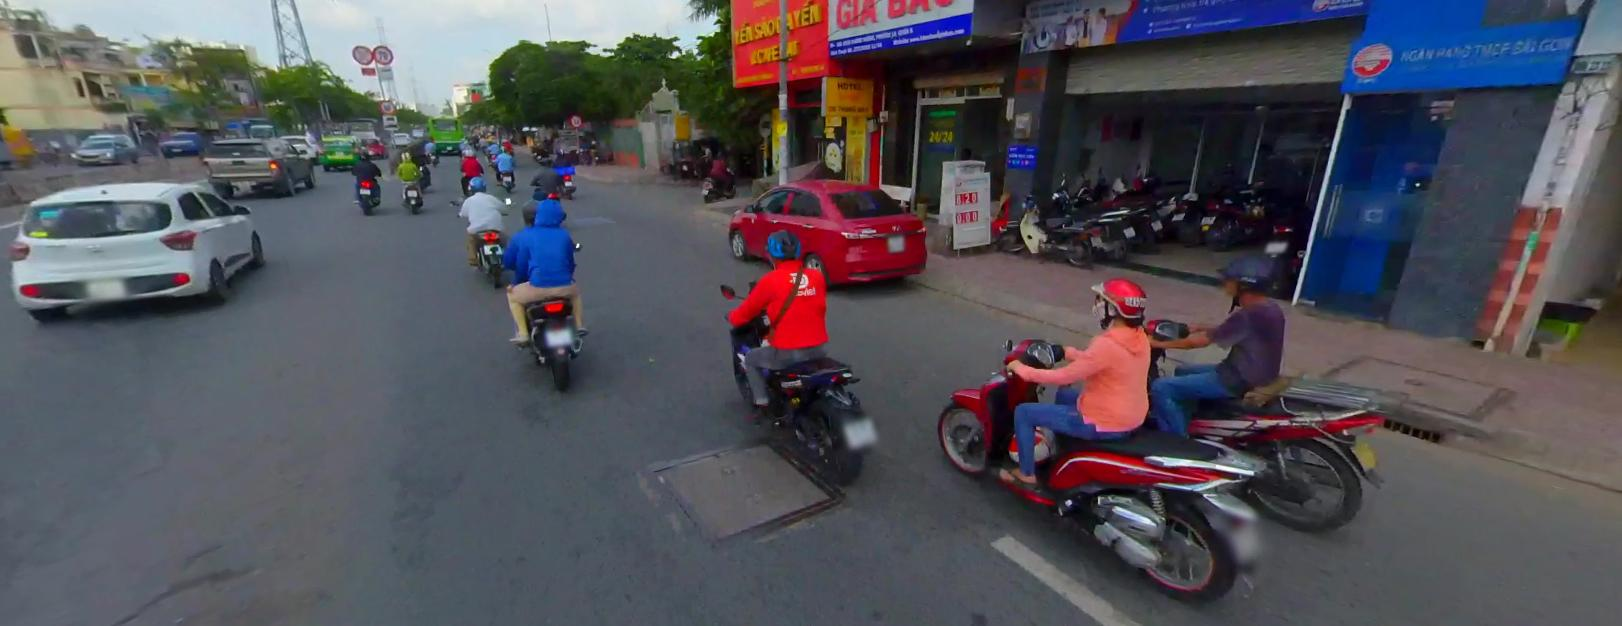Cam con lai: (351, 44, 371, 65), (352, 46, 371, 64), (379, 100, 395, 113), (379, 99, 395, 112)
Gioi han toc do: (372, 44, 392, 64), (373, 44, 393, 63), (569, 114, 581, 127), (569, 114, 581, 126)
